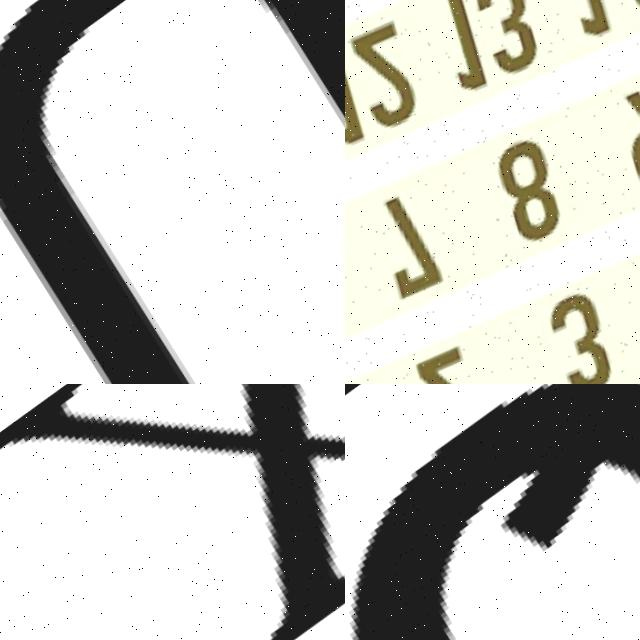1: (408, 0, 527, 115), (527, 0, 640, 66), (345, 34, 401, 167)
2: (345, 8, 458, 153), (392, 330, 532, 384)
3: (518, 274, 640, 384), (448, 0, 575, 99)
7: (349, 176, 482, 322)
8: (466, 125, 603, 272)
9: (589, 74, 640, 219)
Q: (345, 384, 640, 640)
U: (0, 0, 345, 384)
X: (0, 384, 345, 640)
